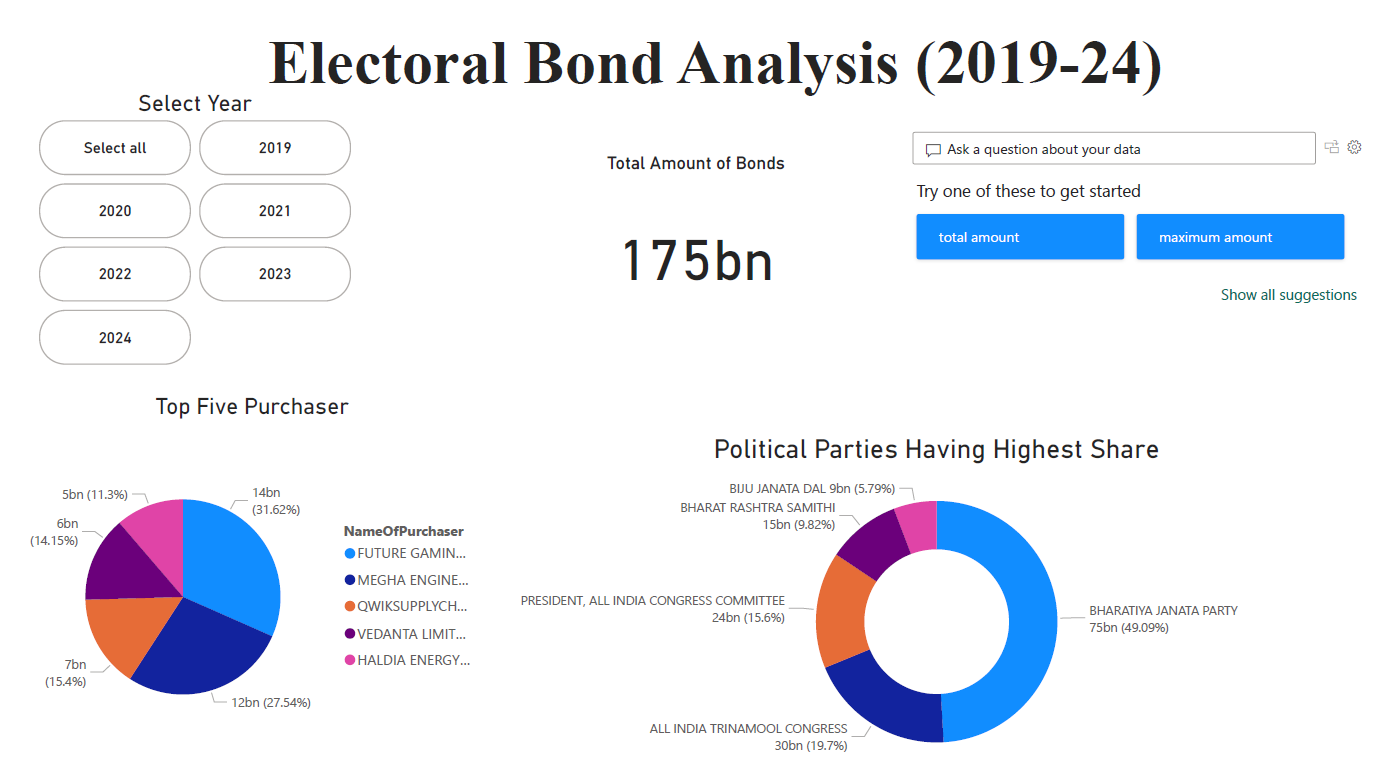

The page's visual inventory and layout, read from the dashboard file:
{"tool":"powerbi","page":{"name":"Page 1","canvas":[1280,720],"ordinal":0},"visuals":[{"type":"donutChart","title":"Political Parties Having Highest Share","fields":{"Y":["analytical electoralbonds.Amount"],"Category":["analytical electoralbonds.PartyName"]},"box":[455.6,389.7,824.7,330.7],"z":0},{"type":"advancedSlicerVisual","title":"Select Year","fields":{"Values":["analytical electoralbonds.Year"]},"box":[11,64.5,306,267.6],"z":2},{"type":"pieChart","title":"Top Five Purchaser","fields":{"Category":["analytical electoralbonds.NameOfPurchaser"],"Y":["analytical electoralbonds.Amount"]},"box":[0,332.1,455.6,388.3],"z":3},{"type":"card","title":"Total Amount of Bonds","fields":{"Values":["analytical electoralbonds.Amount"]},"box":[506.3,102.9,266.2,193.5],"z":4},{"type":"qnaVisual","box":[835.7,64.5,444.6,267.6],"z":5},{"type":"textbox","box":[227.8,0,953.7,82.3],"z":6}]}

Visuals, with their boxes in screenshot pixels (x1, y1, x2, y2), scaled from the page's 1280x720 canvas onto the 1395x782 screenshot:
"Political Parties Having Highest Share" donutChart: left=497, top=423, right=1394, bottom=781
"Select Year" advancedSlicerVisual: left=12, top=70, right=345, bottom=361
"Top Five Purchaser" pieChart: left=0, top=361, right=497, bottom=781
"Total Amount of Bonds" card: left=552, top=112, right=842, bottom=322
qnaVisual: left=911, top=70, right=1394, bottom=361
textbox: left=248, top=0, right=1288, bottom=89
